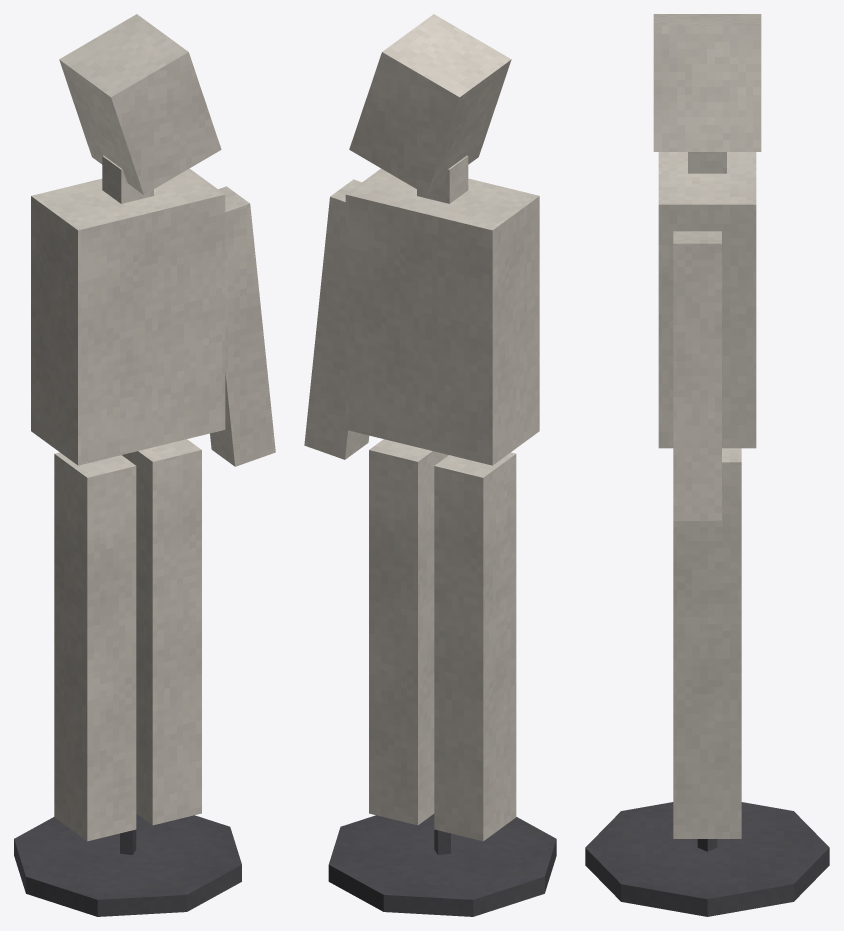
The model's file is int_mannequin.glb.
3 views of the same model, side by side, from view 1: azimuth 30°, elevation 25°; view 2: azimuth 150°, elevation 25°; view 3: azimuth 270°, elevation 25° (orthographic). The views are drawn at different scales.
Parts seen in each view (by area): view 1: body-col, detail; view 2: body-col, detail; view 3: detail, body-col.
Part boxes in pixels (bbox=[...]): body-col: bbox=[31, 168, 225, 841]; detail: bbox=[14, 14, 275, 916]; body-col: bbox=[345, 168, 539, 841]; detail: bbox=[304, 14, 556, 916]; detail: bbox=[585, 14, 829, 916]; body-col: bbox=[658, 152, 756, 838].
Bounding box in the file's own units: 0.5711 × 1.93 × 0.5.
Materials: 2 (2 with a texture image).
